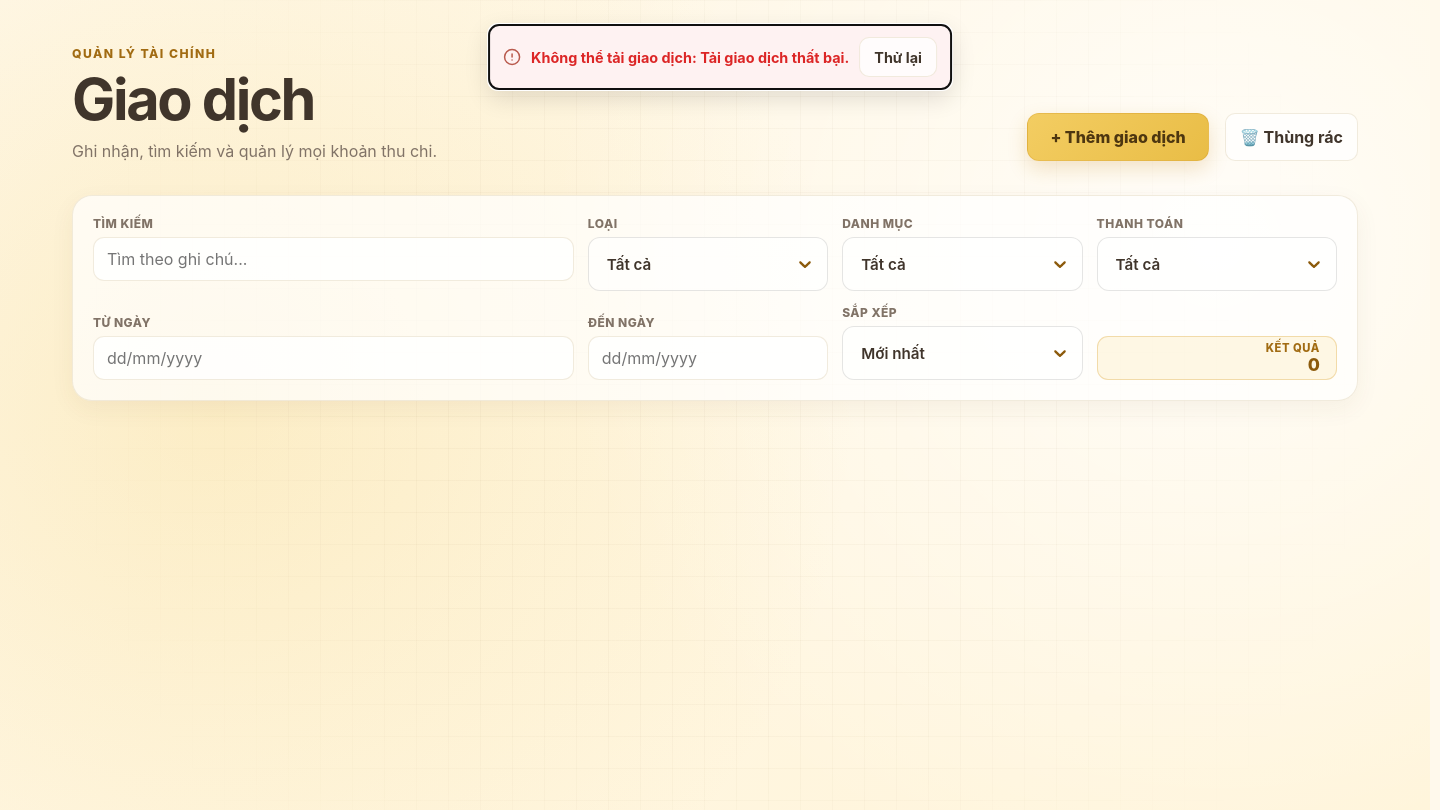
Transactions page safeguards › shows a retry state instead of an empty list after loading fails
Check: the message shows "Tải giao dịch thất bại.", box [700,48,849,66]
Check: the text "Chưa có giao dịch nào" is not shown
Click the button "Thử lại": (898, 57) [859,37,937,77]
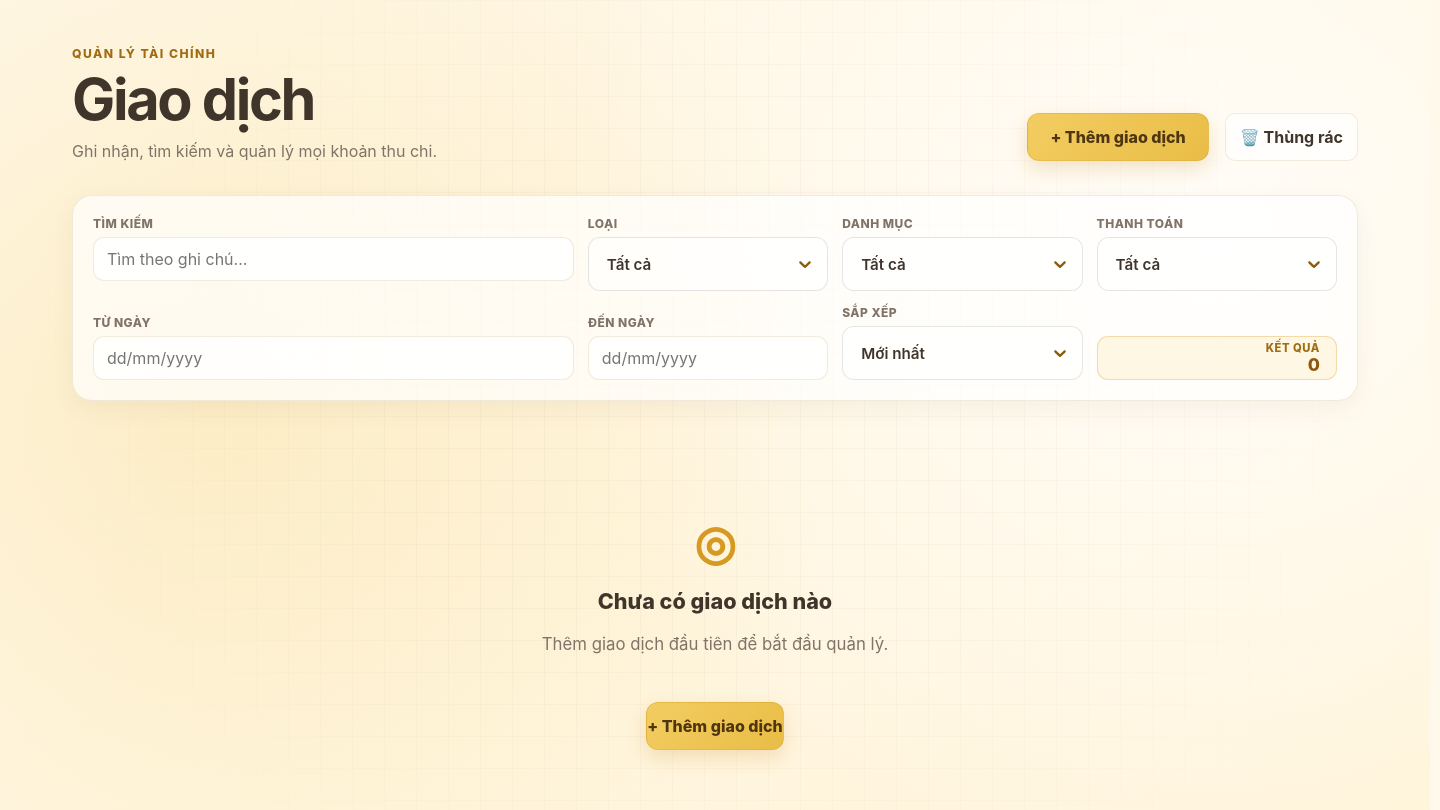
Check: the heading "Chưa có giao dịch nào" is shown, box [598,588,832,614]
